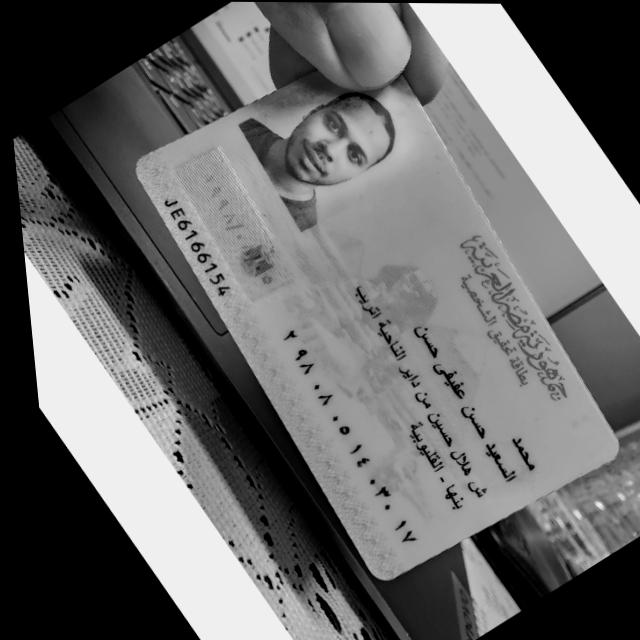front: (135, 74, 617, 581)
